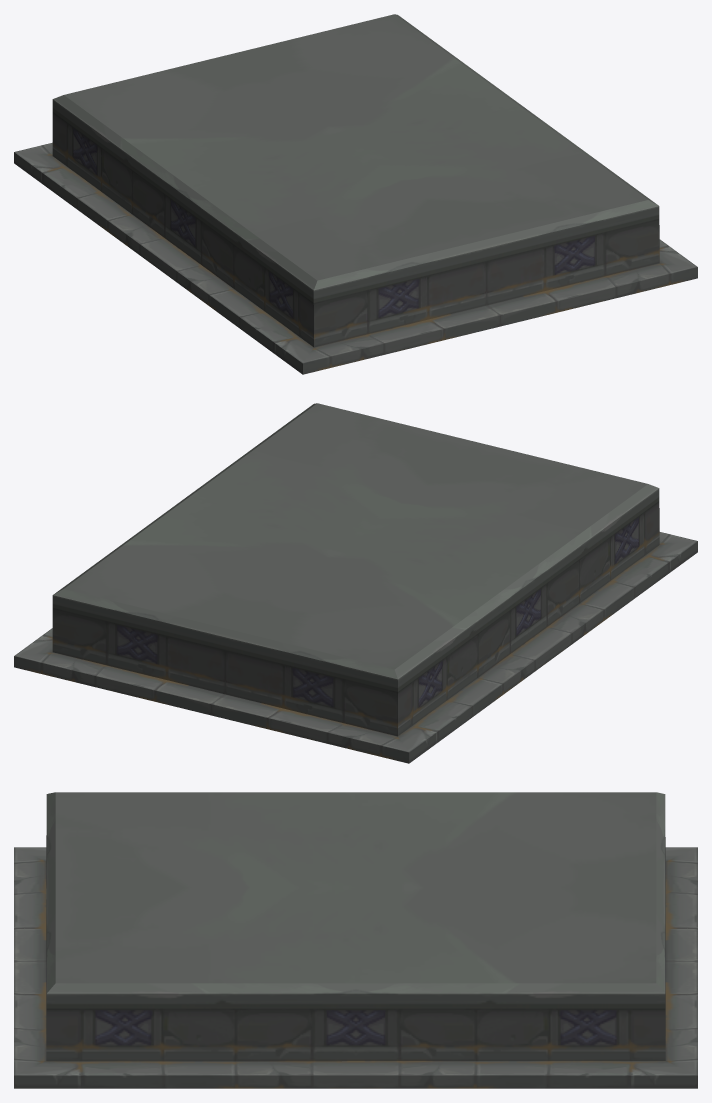
File: sc_dungeon_moshenta_fangzi_001_c01.FBX
3 views of the same model, one above another, from view 1: azimuth 30°, elevation 25°; view 2: azimuth 150°, elevation 25°; view 3: azimuth 270°, elevation 25° (orthographic). The views are drawn at different scales.
Visible parts, largest first — view 1: sc_dungeon_moshenta_fangzi_001_c01; view 2: sc_dungeon_moshenta_fangzi_001_c01; view 3: sc_dungeon_moshenta_fangzi_001_c01.
Boxes of the visible parts, left/top/right/bottom form: sc_dungeon_moshenta_fangzi_001_c01: left=14, top=14, right=697, bottom=374; sc_dungeon_moshenta_fangzi_001_c01: left=14, top=403, right=697, bottom=763; sc_dungeon_moshenta_fangzi_001_c01: left=14, top=792, right=697, bottom=1088.
Bounding box in the file's own units: 7.67 × 9.72 × 1.36.
Materials: 1 (1 with a texture image).
